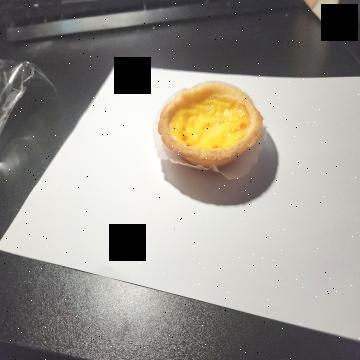EggTart: (158, 80, 264, 170)
